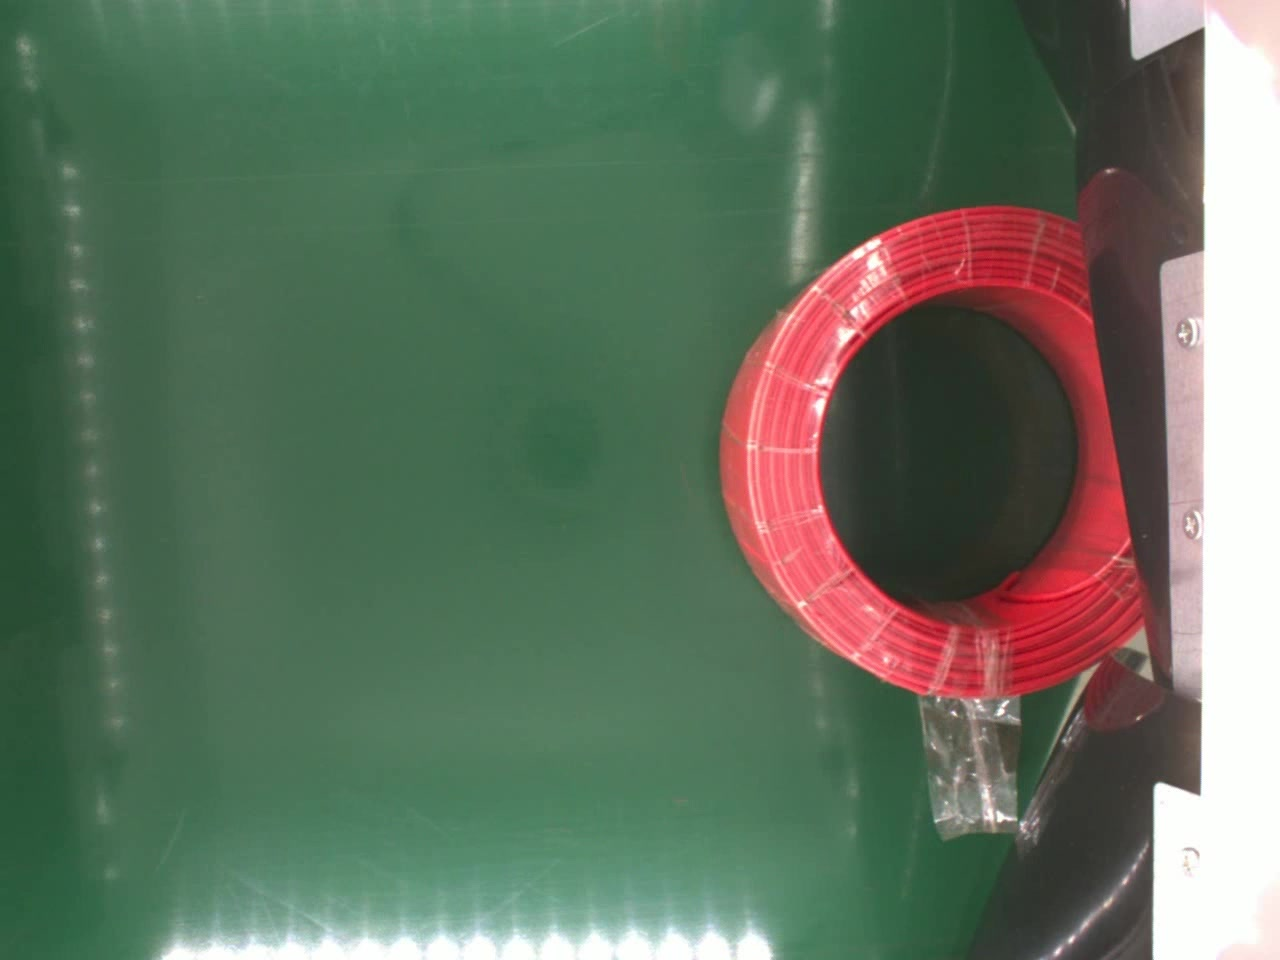red: (717, 200, 1146, 704)
